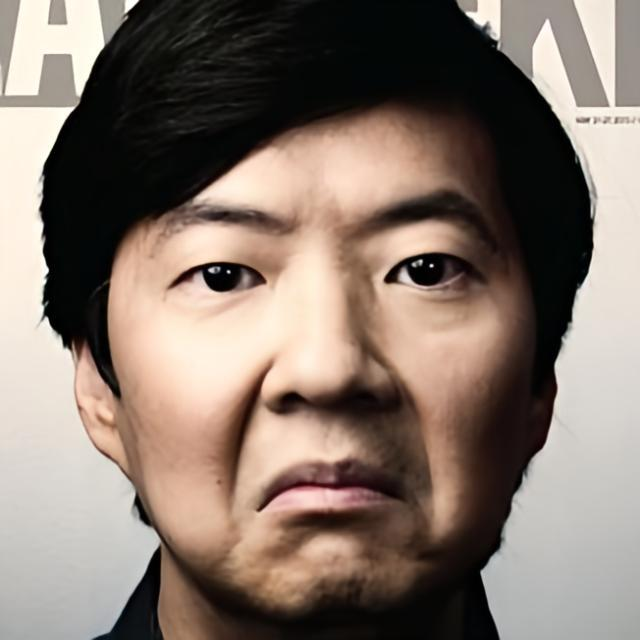disgust: (105, 77, 536, 633)
